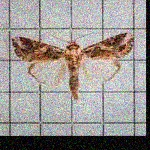Spodoptera litura: (12, 31, 134, 100)
